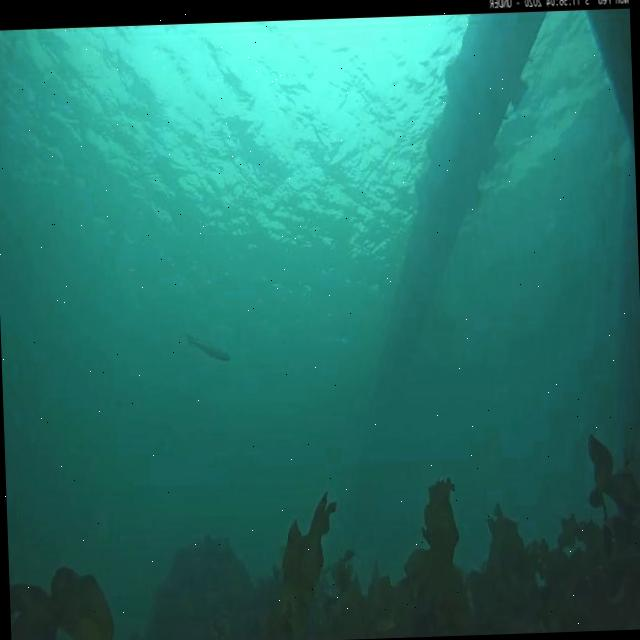fish: (187, 335, 230, 364)
